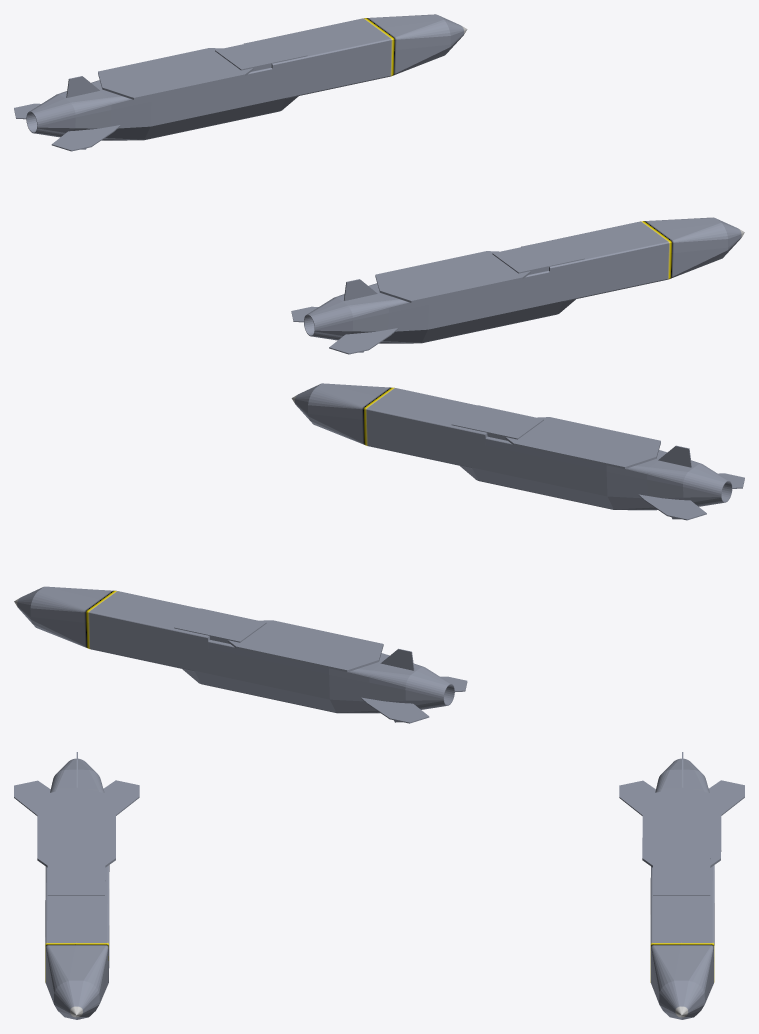
File: rafalescalpeg12.glb
3 renders of one model, top to bottom at view 1: azimuth 30°, elevation 25°; view 2: azimuth 150°, elevation 25°; view 3: azimuth 270°, elevation 25°, orthographic. The views are drawn at different scales.
Visible parts, largest first — view 1: 円柱.007, 円柱.006; view 2: 円柱.007, 円柱.006; view 3: 円柱.007, 円柱.006.
Boxes of the visible parts, x1,y1,x2,y2 form: 円柱.007: [14, 14, 467, 151]; 円柱.006: [291, 217, 744, 354]; 円柱.007: [14, 586, 467, 723]; 円柱.006: [291, 383, 744, 520]; 円柱.007: [619, 752, 744, 1019]; 円柱.006: [14, 752, 139, 1019].
Bounding box in the file's own units: 5.4 × 0.8969 × 7.2.
Materials: 7 (1 with a texture image).
